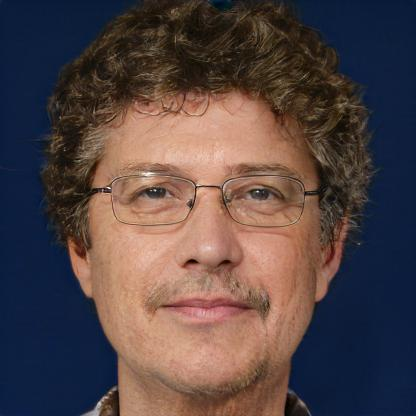glasses: (92, 165, 320, 234)
